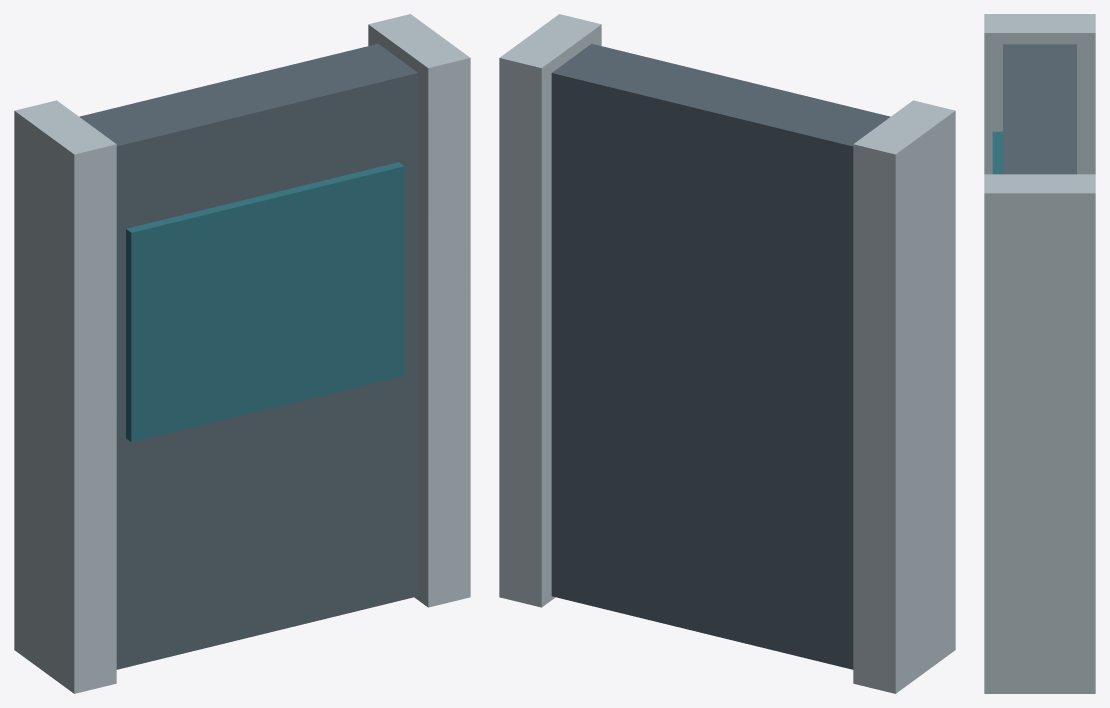
Rendered from window-wall.glb.
The picture shows the model from 3 angles, left to right: view 1: azimuth 30°, elevation 25°; view 2: azimuth 150°, elevation 25°; view 3: azimuth 270°, elevation 25°; orthographic projection. The views are drawn at different scales.
Parts seen in each view (by area): view 1: reinforced panel, armored glass, vertical edge column, vertical edge column.001; view 2: reinforced panel, vertical edge column, vertical edge column.001; view 3: vertical edge column.001, reinforced panel, vertical edge column, armored glass.
Boxes of the visible parts, bbox=[...] form: reinforced panel: bbox=[79, 44, 418, 669]; armored glass: bbox=[126, 162, 404, 441]; vertical edge column: bbox=[14, 100, 116, 693]; vertical edge column.001: bbox=[368, 14, 470, 607]; reinforced panel: bbox=[551, 44, 890, 669]; vertical edge column: bbox=[853, 100, 955, 693]; vertical edge column.001: bbox=[499, 14, 601, 607]; vertical edge column.001: bbox=[984, 174, 1095, 693]; reinforced panel: bbox=[1003, 44, 1076, 174]; vertical edge column: bbox=[984, 14, 1095, 174]; armored glass: bbox=[992, 131, 1002, 174].
Bounding box in the file's own units: 1.03 × 1.34 × 0.27.
